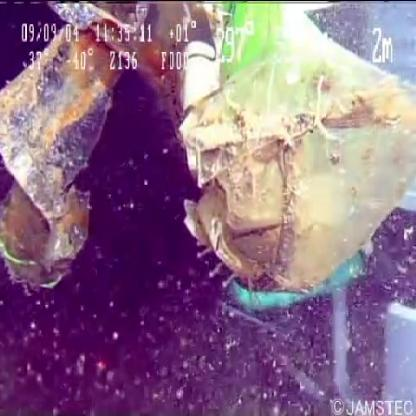Rác: (1, 2, 416, 313), (14, 12, 406, 78)
